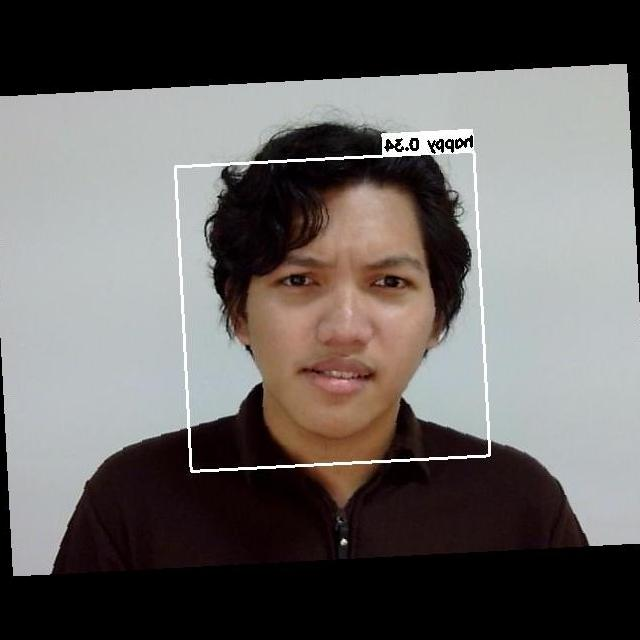Angry: (248, 231, 443, 418)
